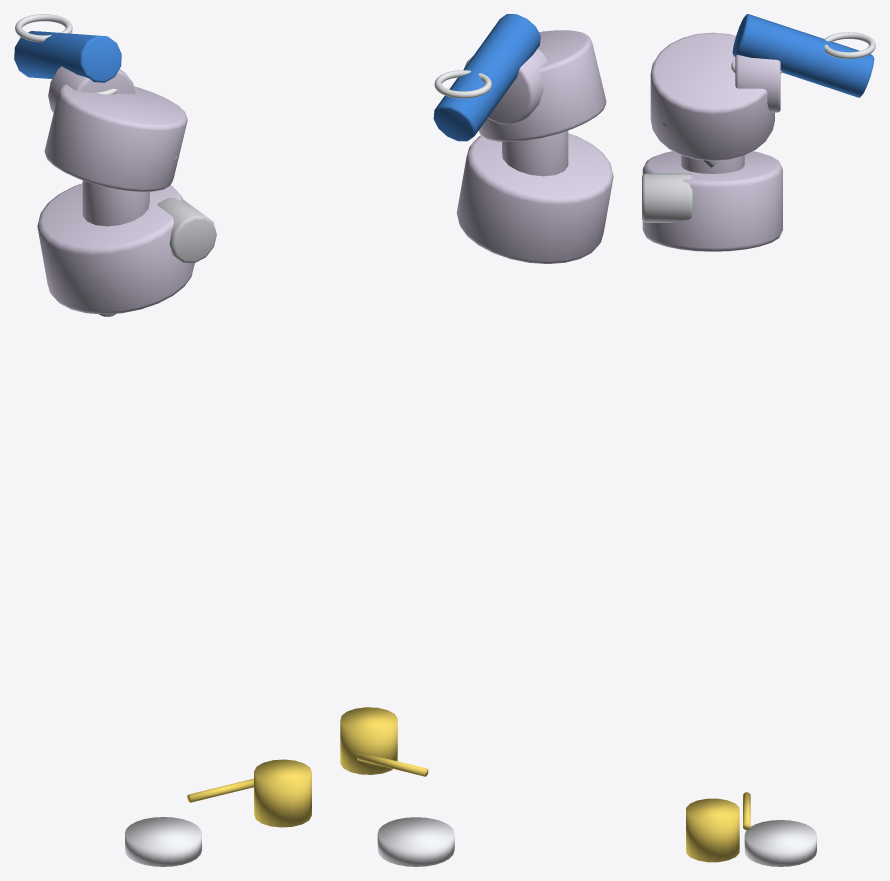
The model's file is engine_v8_turbo_l.glb.
The picture shows the model from 3 angles, left to right: view 1: azimuth 30°, elevation 25°; view 2: azimuth 150°, elevation 25°; view 3: azimuth 270°, elevation 25°; orthographic projection. The views are drawn at different scales.
Parts seen in each view (by area): view 1: Engine_V8_Turbo_L, GEO_V8Turbo_WastegateActuator, GEO_V8Turbo_BilletImpeller; view 2: Engine_V8_Turbo_L, GEO_V8Turbo_WastegateActuator, GEO_V8Turbo_BilletImpeller; view 3: Engine_V8_Turbo_L, GEO_V8Turbo_WastegateActuator, GEO_V8Turbo_BilletImpeller.
Part boxes in pixels (bbox=[...]): Engine_V8_Turbo_L: bbox=[14, 14, 216, 316]; GEO_V8Turbo_WastegateActuator: bbox=[187, 759, 311, 827]; GEO_V8Turbo_BilletImpeller: bbox=[125, 817, 201, 866]; Engine_V8_Turbo_L: bbox=[433, 14, 613, 263]; GEO_V8Turbo_WastegateActuator: bbox=[340, 707, 428, 776]; GEO_V8Turbo_BilletImpeller: bbox=[377, 817, 454, 866]; Engine_V8_Turbo_L: bbox=[642, 14, 875, 251]; GEO_V8Turbo_WastegateActuator: bbox=[686, 792, 750, 862]; GEO_V8Turbo_BilletImpeller: bbox=[744, 820, 816, 866].
Size of the model in its own units: 0.2495 by 0.7766 by 0.2065.
